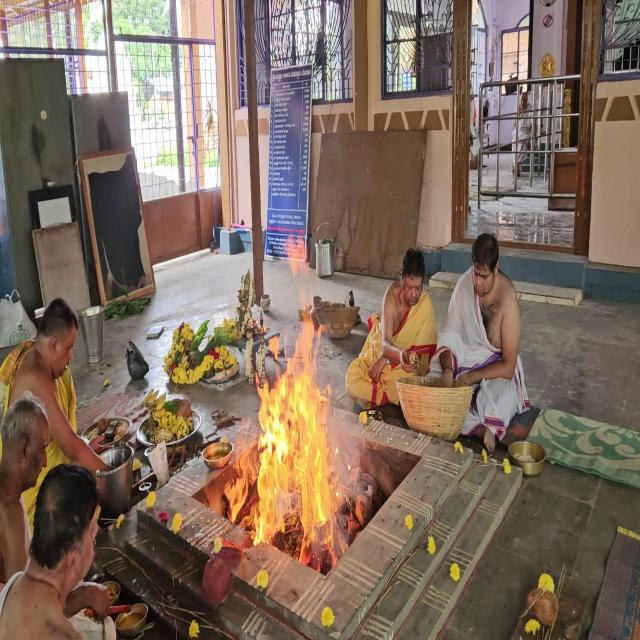fire: (237, 287, 346, 571)
